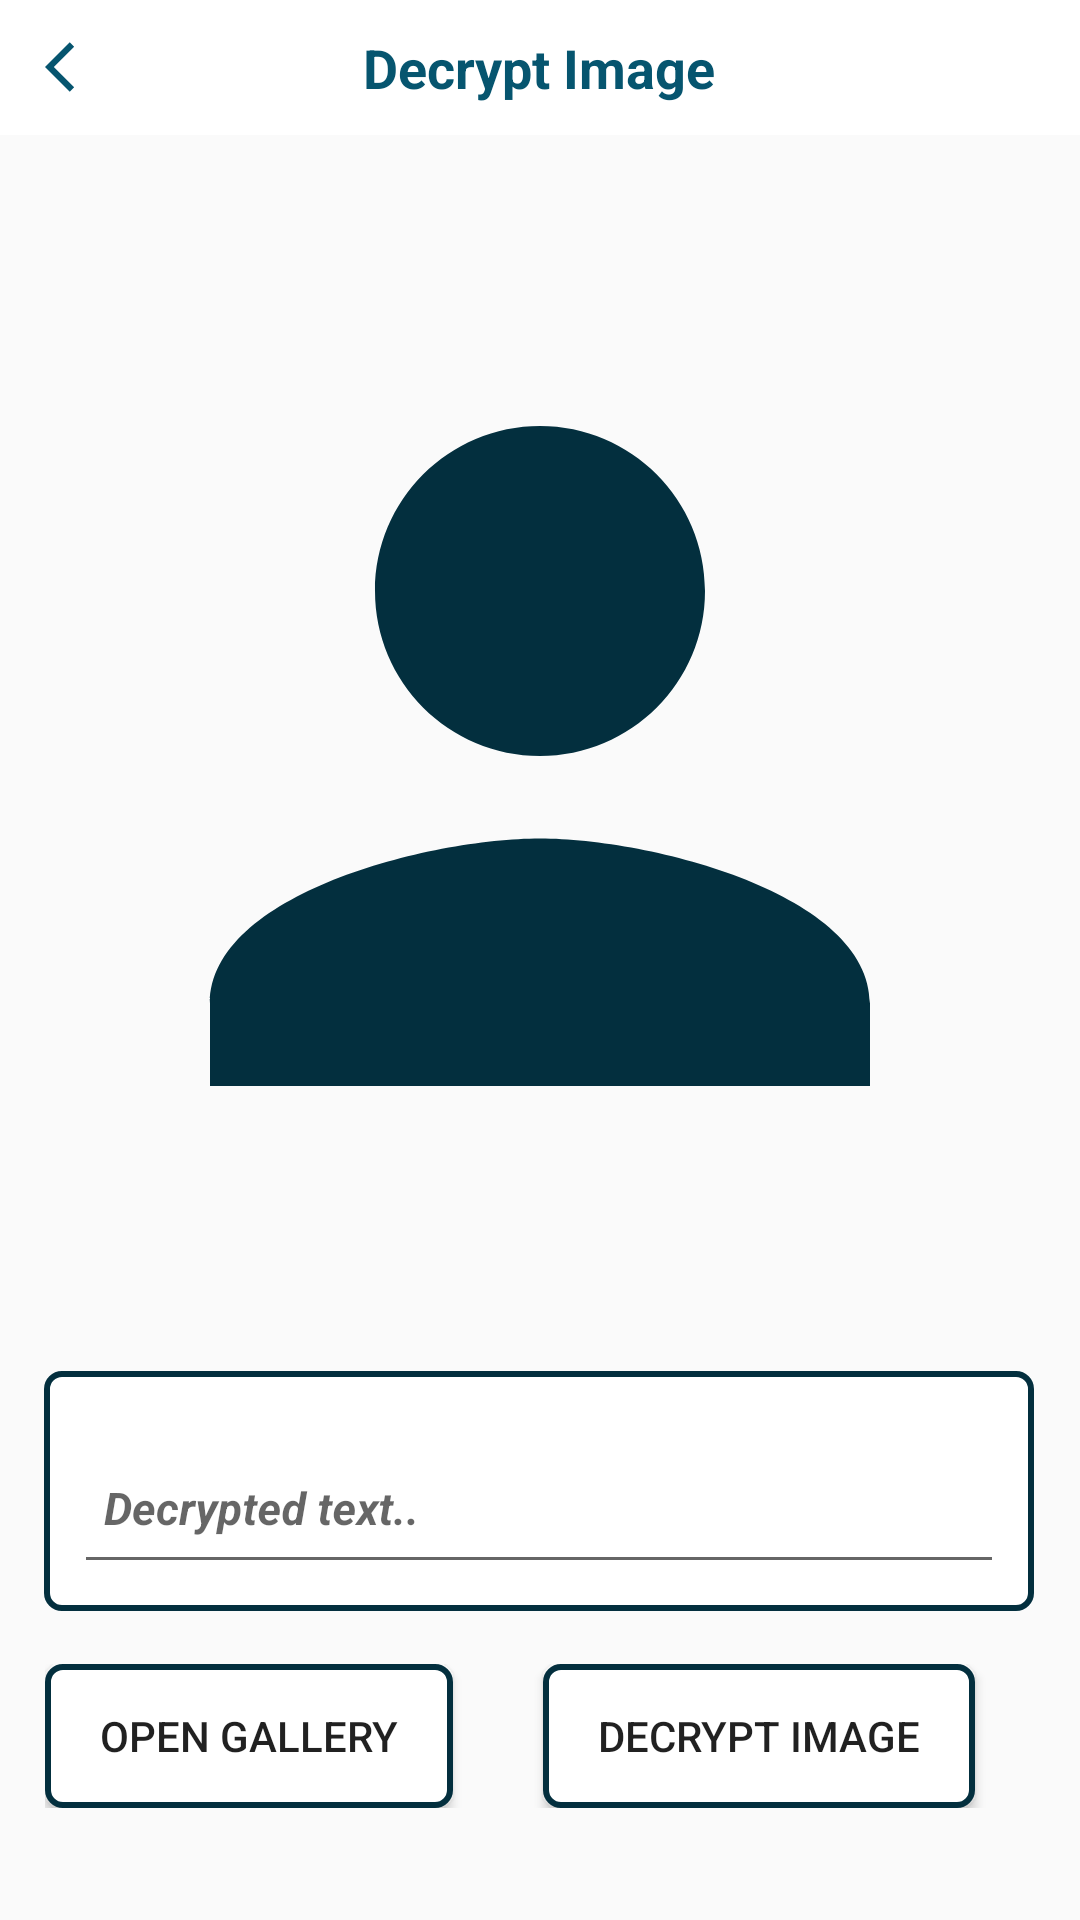

Icon bounding boxes for this 1080px x 1920px phone screenshot, format [x1=x1, y1=y1, x2=x2, y2=y2]:
arrow back: [x1=45, y1=42, x2=74, y2=92]
